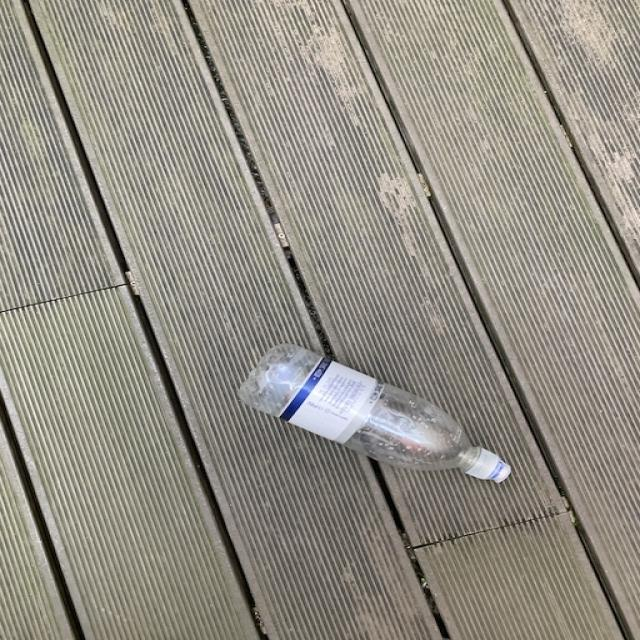litter: (235, 344, 513, 483)
